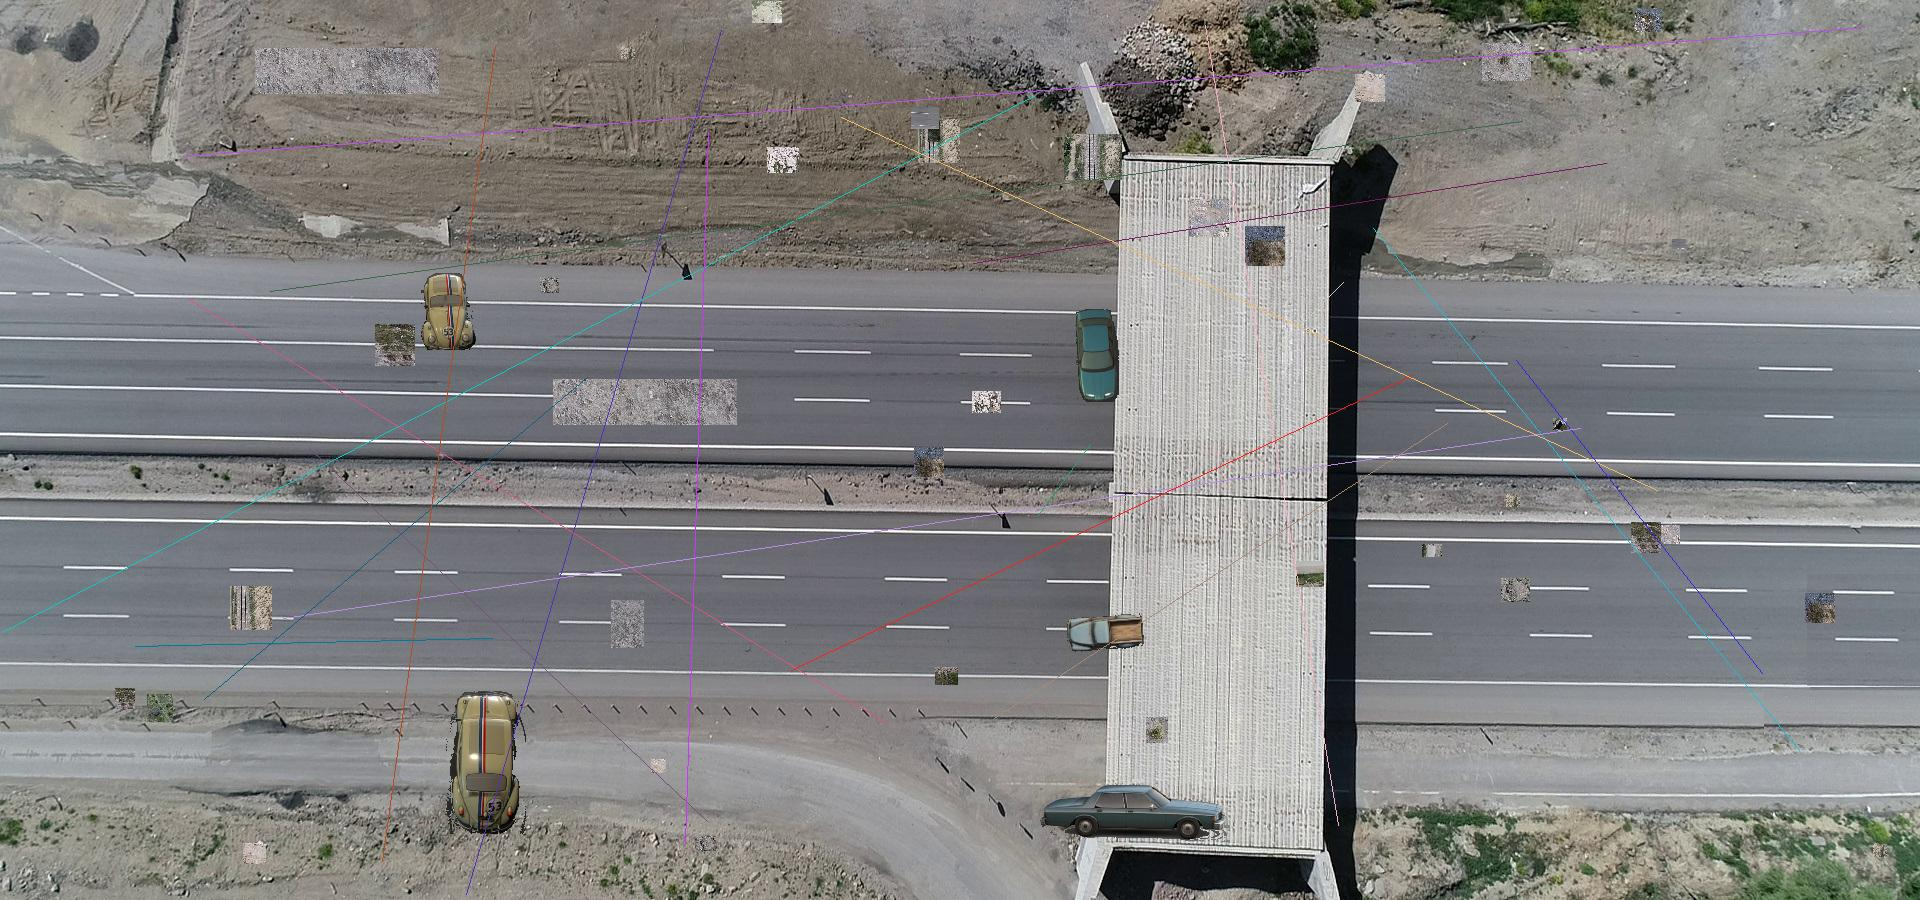arac: (1031, 781, 1229, 842), (444, 691, 527, 834), (421, 273, 478, 350), (1075, 309, 1119, 402), (1067, 610, 1145, 651)
